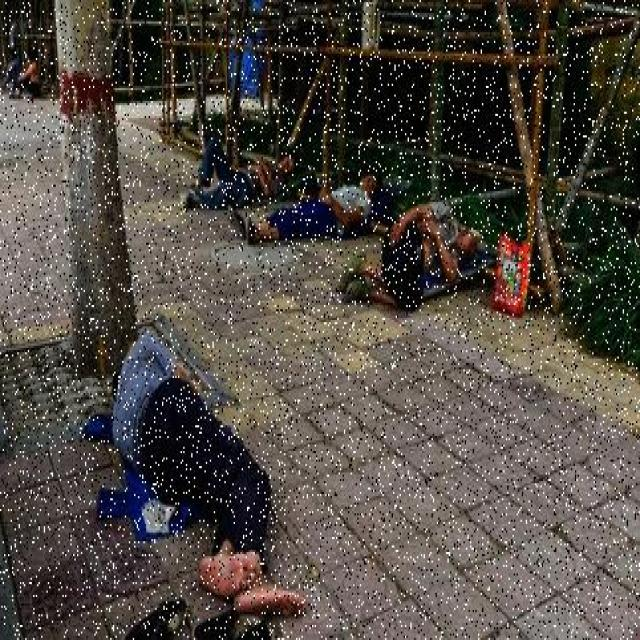fall: (110, 328, 310, 618), (353, 198, 485, 310), (182, 146, 306, 206)
